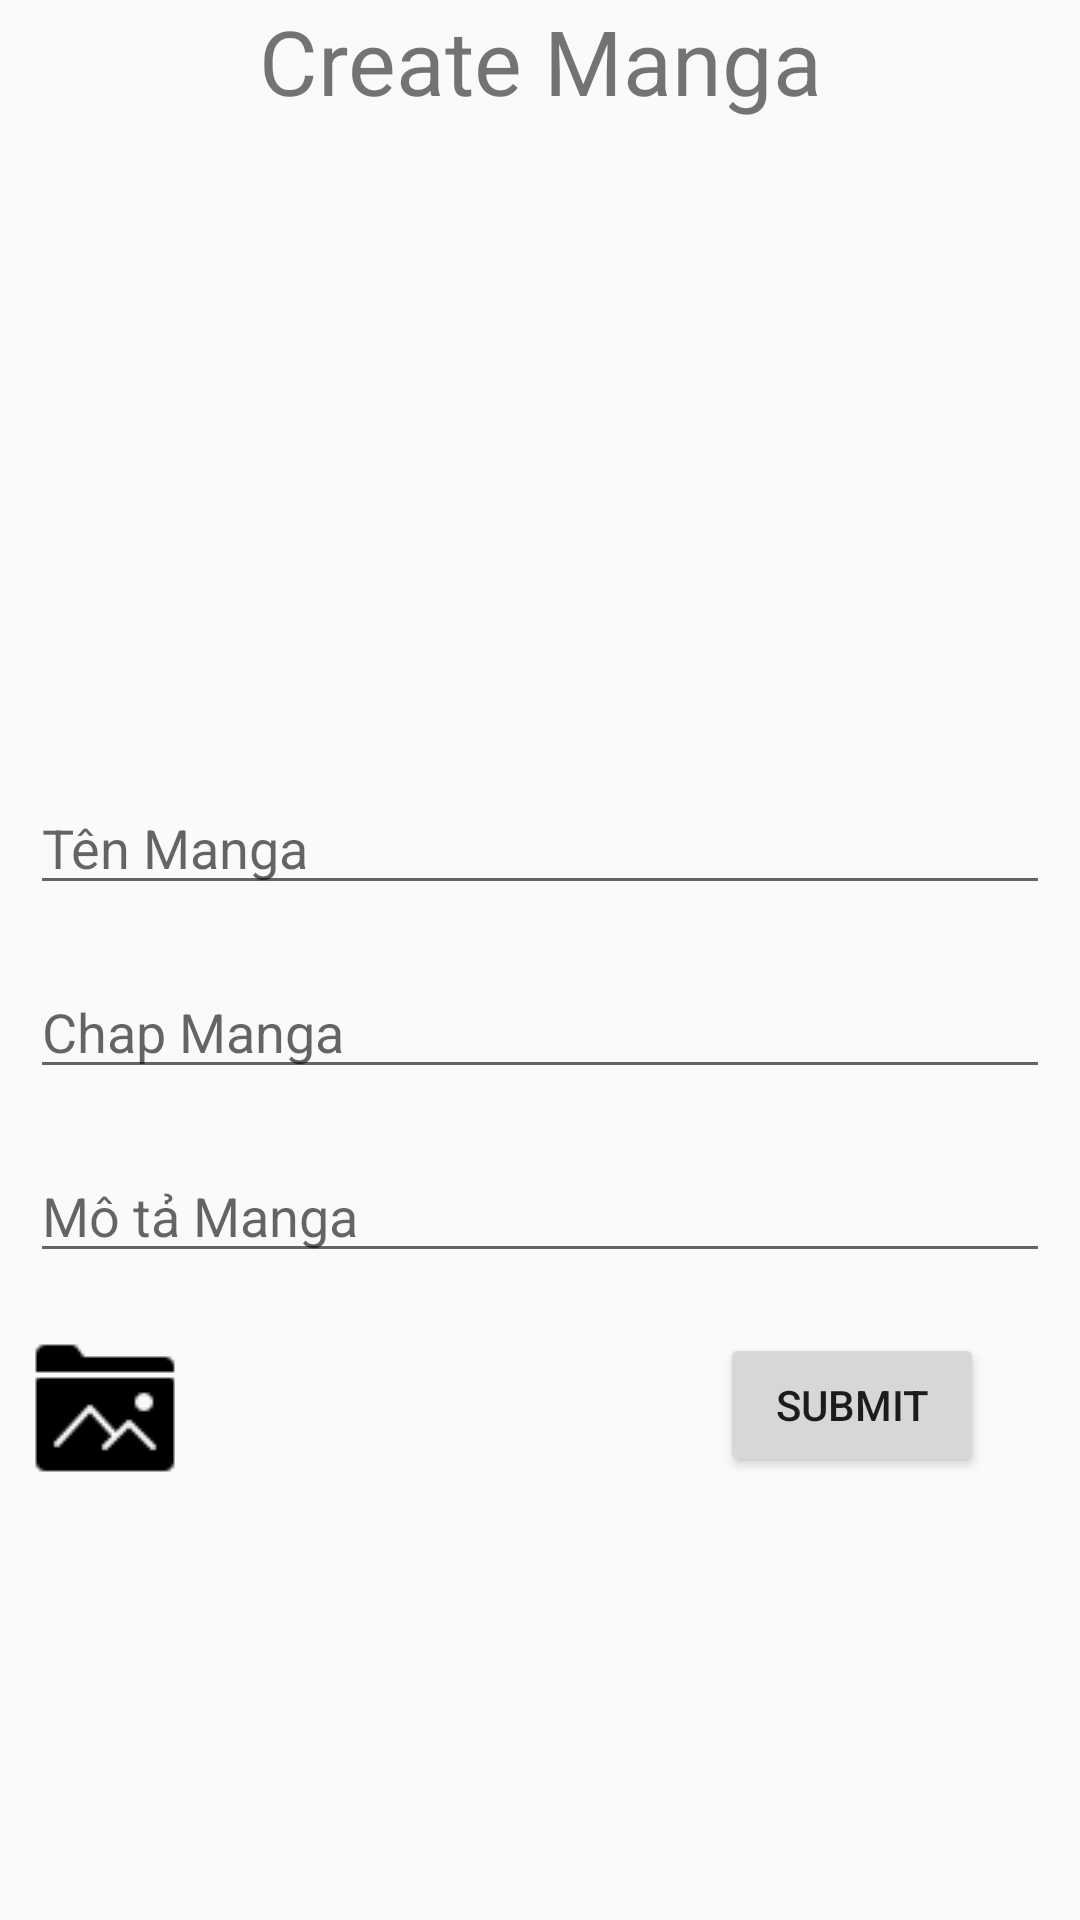

Icons on this 1080w x 1920h Android screen, each with the point to tap as (x,y):
folder: (105,1408)
